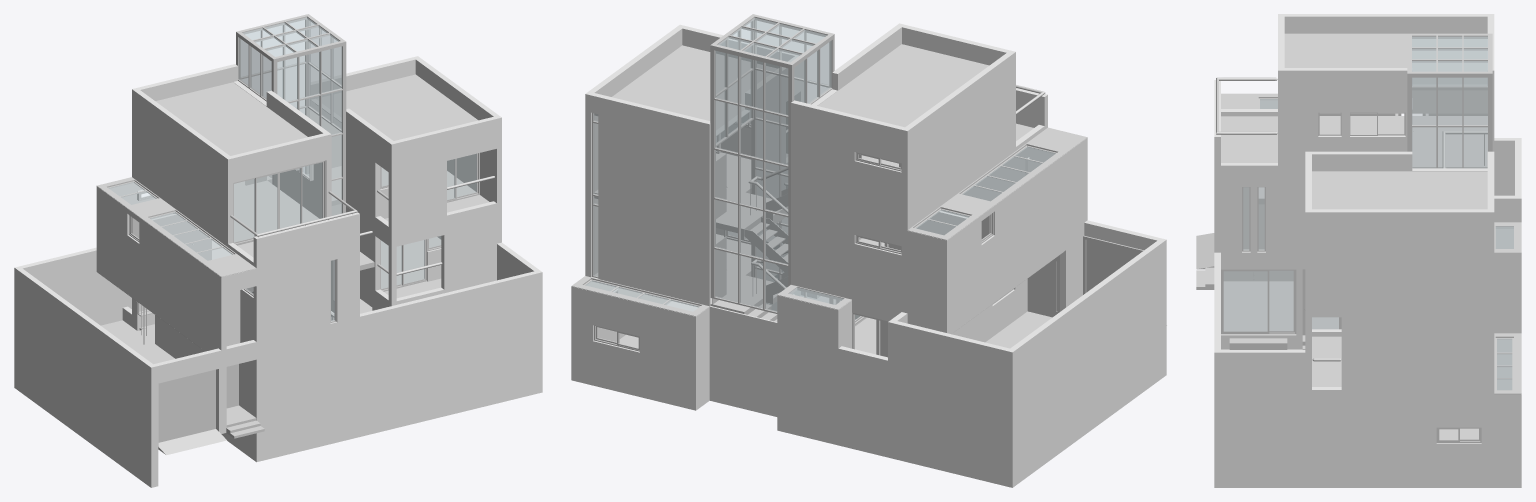
File: skip_House.min.glb
3 views of the same model, side by side, from view 1: azimuth 30°, elevation 25°; view 2: azimuth 150°, elevation 25°; view 3: azimuth 270°, elevation 25° (orthographic). The views are drawn at different scales.
Visible parts, largest first — view 1: world_skip_house.001, world_skip_house, world_skip_house.203, world_skip_house.183, world_skip_house.071, world_skip_house.248, world_skip_house.257, world_skip_house.235, world_skip_house.068, world_skip_house.285, world_skip_house.247, world_skip_house.052 (+7 smaller); view 2: world_skip_house.001, world_skip_house, world_skip_house.203, world_skip_house.183, world_skip_house.054, world_skip_house.257, world_skip_house.285, world_skip_house.247, world_skip_house.235, world_skip_house.052, world_skip_house.195, world_skip_house.071 (+8 smaller); view 3: world_skip_house.001, world_skip_house, world_skip_house.183, world_skip_house.203, world_skip_house.248, world_skip_house.208, world_skip_house.202, world_skip_house.285, world_skip_house.235, world_skip_house.051, world_skip_house.053, world_skip_house.255 (+10 smaller).
Boxes of the visible parts, x1,y1,x2,y2 form: world_skip_house.001: (14, 56, 542, 487); world_skip_house: (109, 17, 476, 321); world_skip_house.203: (155, 82, 307, 155); world_skip_house.183: (317, 74, 478, 140); world_skip_house.071: (158, 369, 215, 442); world_skip_house.248: (234, 180, 319, 245); world_skip_house.257: (97, 177, 256, 276); world_skip_house.235: (381, 237, 441, 298); world_skip_house.068: (101, 320, 253, 422); world_skip_house.285: (236, 14, 346, 212); world_skip_house.247: (307, 166, 489, 221); world_skip_house.052: (276, 45, 343, 213); world_skip_house.001: (571, 23, 1166, 487); world_skip_house: (586, 18, 1055, 319); world_skip_house.203: (818, 44, 989, 127); world_skip_house.183: (594, 45, 776, 135); world_skip_house.054: (713, 48, 789, 313); world_skip_house.257: (907, 127, 1087, 240); world_skip_house.285: (710, 14, 834, 304); world_skip_house.247: (594, 137, 788, 239); world_skip_house.235: (595, 231, 779, 314); world_skip_house.052: (754, 19, 830, 303); world_skip_house.195: (1027, 255, 1059, 317); world_skip_house.071: (1086, 240, 1139, 292); world_skip_house.001: (1214, 14, 1521, 487); world_skip_house: (1224, 37, 1513, 389); world_skip_house.183: (1312, 171, 1487, 209); world_skip_house.203: (1284, 33, 1487, 90); world_skip_house.248: (1319, 116, 1487, 168); world_skip_house.208: (1223, 281, 1338, 335); world_skip_house.202: (1221, 116, 1277, 162); world_skip_house.285: (1407, 33, 1492, 151); world_skip_house.235: (1312, 336, 1341, 386); world_skip_house.051: (1410, 35, 1489, 72); world_skip_house.053: (1410, 76, 1489, 168); world_skip_house.255: (1494, 333, 1521, 394).
Size of the model in its own units: 16.72 by 12.85 by 10.71.
